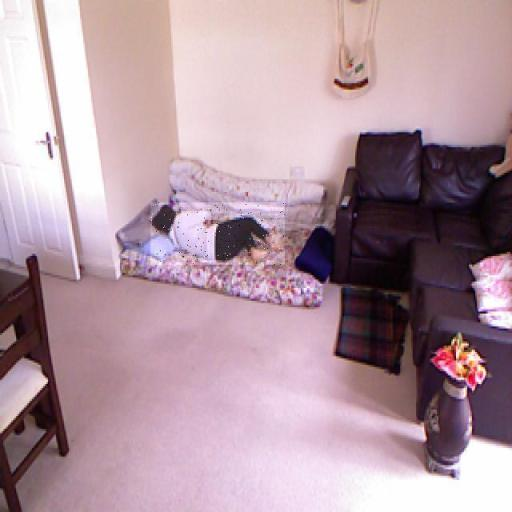Fall: (150, 202, 285, 265)
